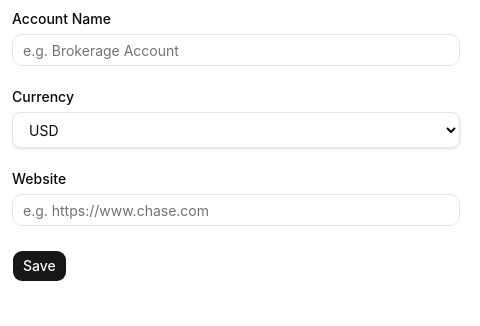
Test: AccountForm › renders field errors if action returns them
Type "A" into the field labelled "Account Name" at (236, 50), box [12, 34, 460, 66]
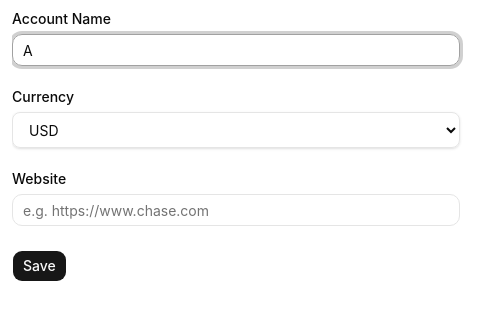
Click the button "Save" at (39, 266), box [12, 250, 67, 282]
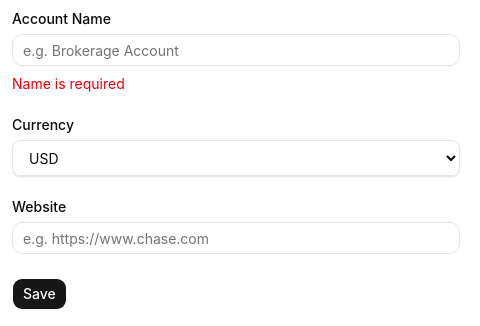
Expected: the text "Name is required" is shown, [12, 75, 125, 92]
